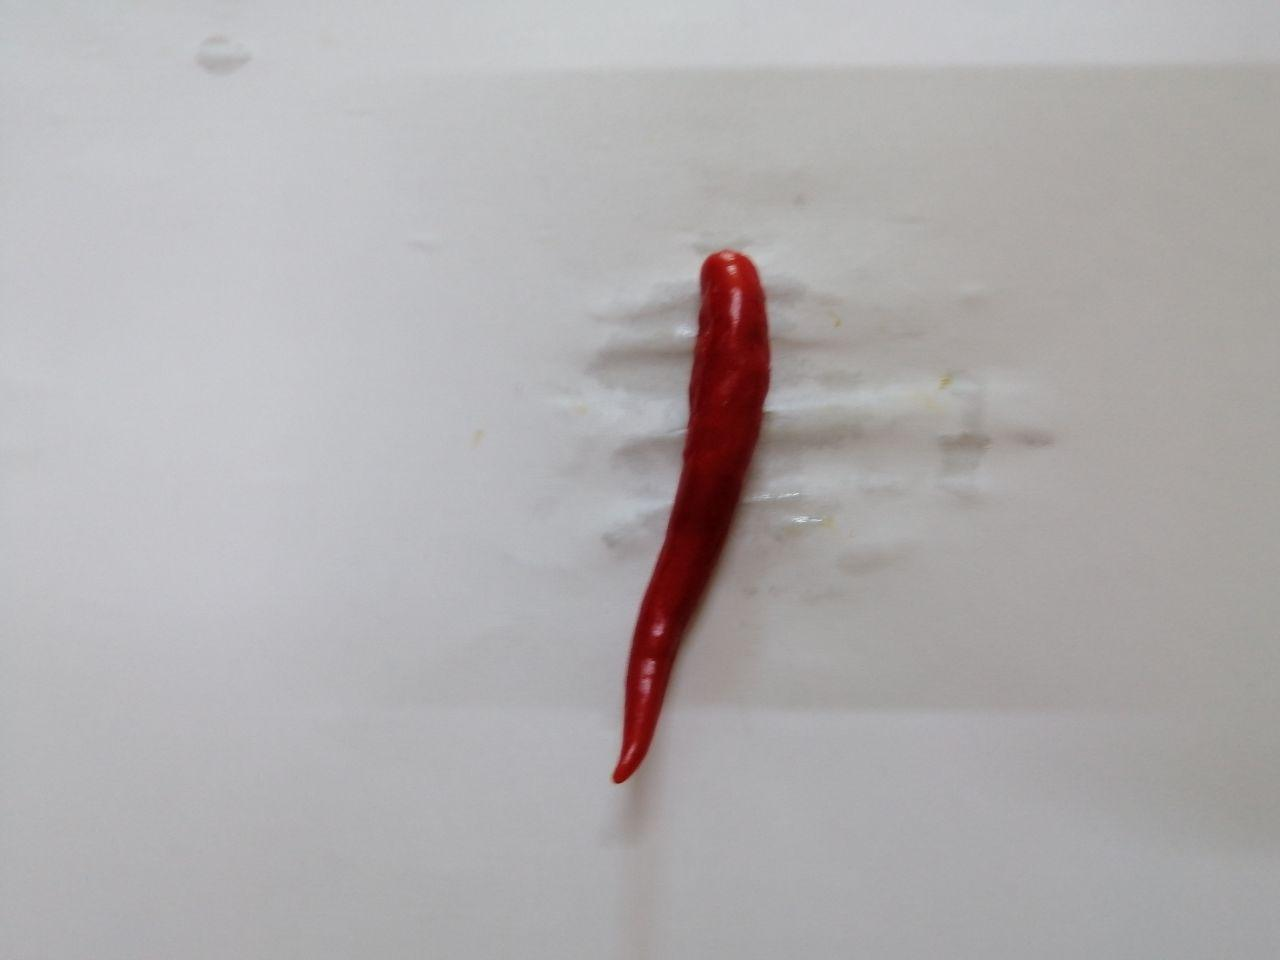lada merah: (583, 244, 793, 815)
